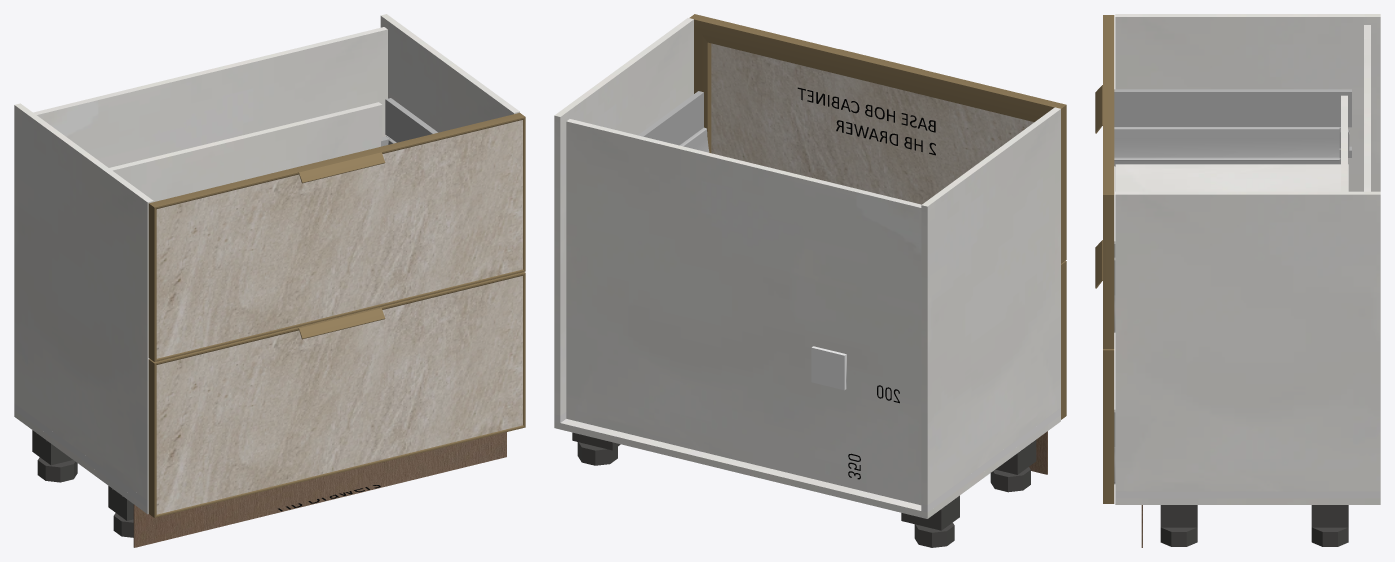
The model's file is BC-HO-TTS-ST-XXX-2HB-XXX-900-720-560-15.glb.
The picture shows the model from 3 angles, left to right: view 1: azimuth 30°, elevation 25°; view 2: azimuth 150°, elevation 25°; view 3: azimuth 270°, elevation 25°; orthographic projection.
Parts seen in each view (by area): view 1: Object_node_1, Object_node, TP_node_4, TP, TP_node_2, Object_node_80, TP_node_5, ExtrSplGeo_node, Extrusion_node_4, Extrusion_node_11, Object_node_55, Extrusion_node_10 (+9 smaller); view 2: TP, TP_node_4, Object_node_1, TP_node_5, TP_node_3, Extrusion_node_7, Extrusion_node_8, ExtrSplGeo_node, Object_node_55, Extrusion_node_9, casing, 2D text (+8 smaller); view 3: TP_node_5, TP_node_4, Object_node_57, Shell_1_0_node, TP_node_1, Object_node_62, TP_node_3, Extrusion_node_2, Extrusion_node_9, TP, Plate_node, Plate_node_1 (+6 smaller).
Part boxes in pixels (x1,y1,x2,y2): Object_node_1: (156, 120, 522, 358); Object_node: (156, 276, 522, 514); TP_node_4: (14, 103, 153, 500); TP: (33, 27, 387, 167); TP_node_2: (109, 102, 382, 201); Object_node_80: (133, 432, 506, 547); TP_node_5: (380, 14, 519, 132); ExtrSplGeo_node: (293, 148, 385, 183); Extrusion_node_4: (148, 359, 156, 517); Extrusion_node_11: (148, 203, 156, 361); Object_node_55: (385, 98, 437, 142); Extrusion_node_10: (155, 269, 525, 361); TP: (566, 119, 921, 505); TP_node_4: (921, 107, 1060, 505); Object_node_1: (711, 43, 1034, 204); TP_node_5: (554, 18, 693, 415); TP_node_3: (554, 415, 1060, 518); Extrusion_node_7: (689, 14, 838, 72); Extrusion_node_8: (916, 69, 1066, 121); ExtrSplGeo_node: (833, 49, 922, 93); Object_node_55: (638, 91, 703, 145); Extrusion_node_9: (694, 25, 711, 152); casing: (811, 346, 846, 390); 2D text: (797, 87, 935, 155); TP_node_5: (1115, 191, 1380, 491); TP_node_4: (1115, 14, 1380, 191); Object_node_57: (1114, 89, 1351, 127); Shell_1_0_node: (1114, 127, 1340, 166); TP_node_1: (1115, 164, 1348, 191); Object_node_62: (1115, 491, 1380, 498); TP_node_3: (1115, 498, 1380, 504); Extrusion_node_2: (1103, 350, 1114, 503); Extrusion_node_9: (1103, 195, 1114, 348); TP: (1364, 25, 1370, 191); Plate_node: (1311, 505, 1348, 527); Plate_node_1: (1160, 505, 1197, 527).
Size of what is drawn, in the model's own units: 0.9 by 0.82 by 0.6.
11 materials, 3 textured.
